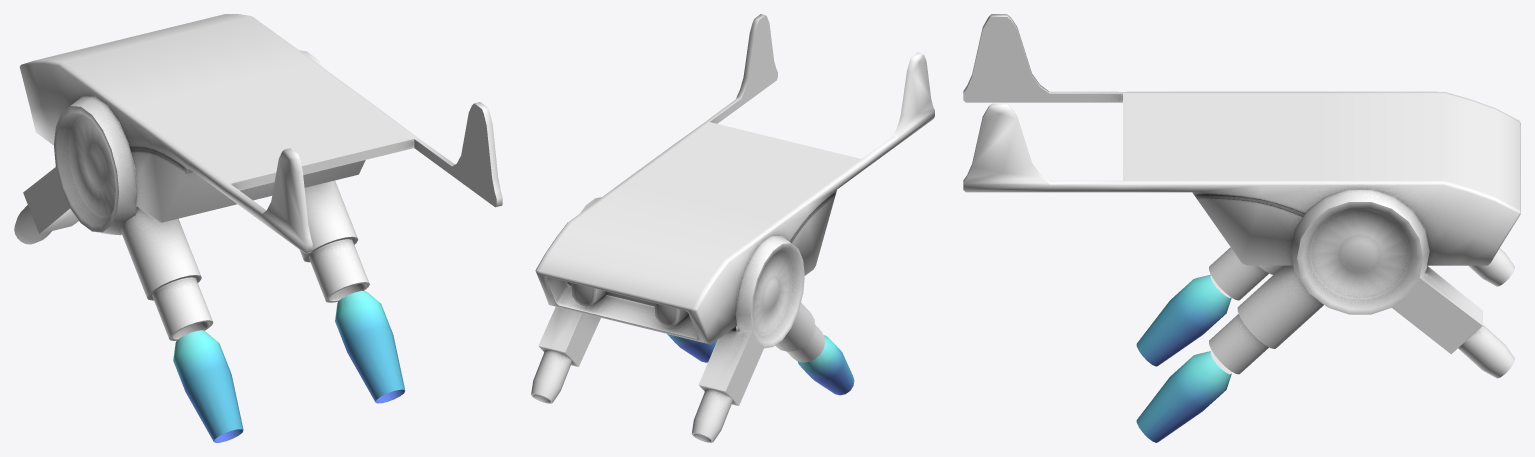
Rendered from drone.fbx.
The picture shows the model from 3 angles, left to right: view 1: azimuth 30°, elevation 25°; view 2: azimuth 150°, elevation 25°; view 3: azimuth 270°, elevation 25°; orthographic projection. The views are drawn at different scales.
Visible parts, largest first — view 1: Box001, Object002; view 2: Box001, Object002; view 3: Box001, Object002.
Part boxes in pixels (x1,y1,x2,y2): Box001: (14,14,502,340); Object002: (173,291,405,442); Box001: (531,14,934,442); Object002: (667,334,854,395); Box001: (963,14,1520,378); Object002: (1136,274,1231,442).
Bounding box in the file's own units: 250 × 373 × 550.
2 materials, 2 textured.
